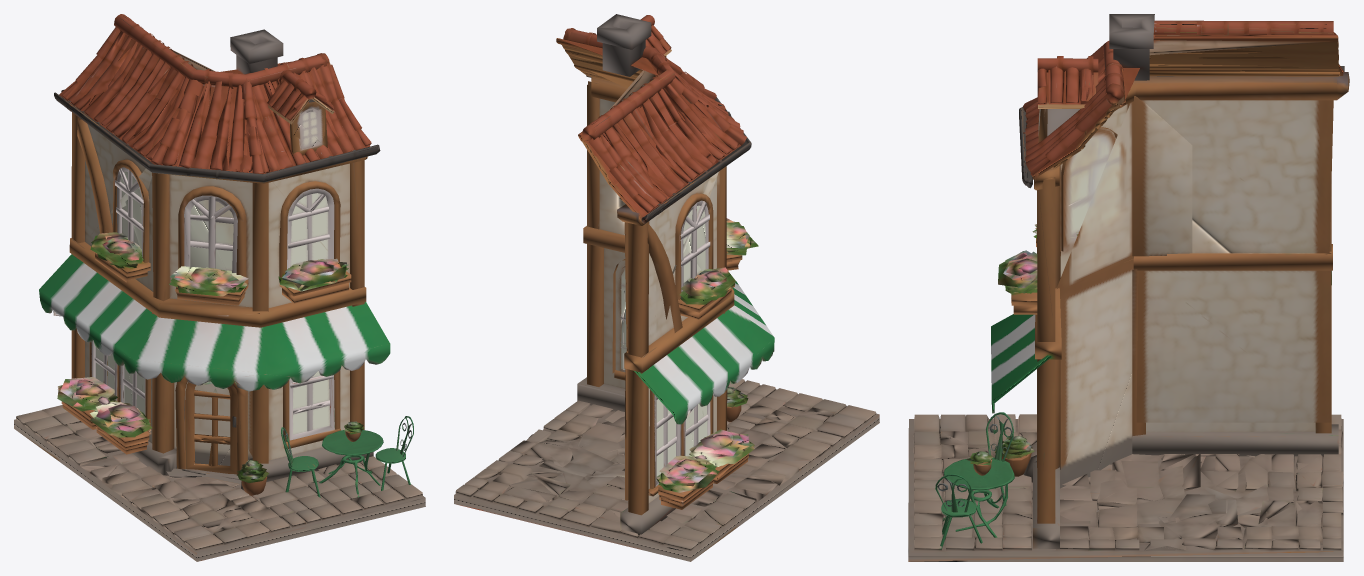
File: cafe.glb
The picture shows the model from 3 angles, left to right: view 1: azimuth 30°, elevation 25°; view 2: azimuth 150°, elevation 25°; view 3: azimuth 270°, elevation 25°; orthographic projection. The views are drawn at different scales.
Parts seen in each view (by area): view 1: geometry_0; view 2: geometry_0; view 3: geometry_0.
Part boxes in pixels (x1,y1,x2,y2): geometry_0: (14,14,425,561); geometry_0: (454,14,879,561); geometry_0: (908,14,1349,561).
Bounding box in the file's own units: 0.5562 × 0.9531 × 0.77.
1 material, 1 textured.
